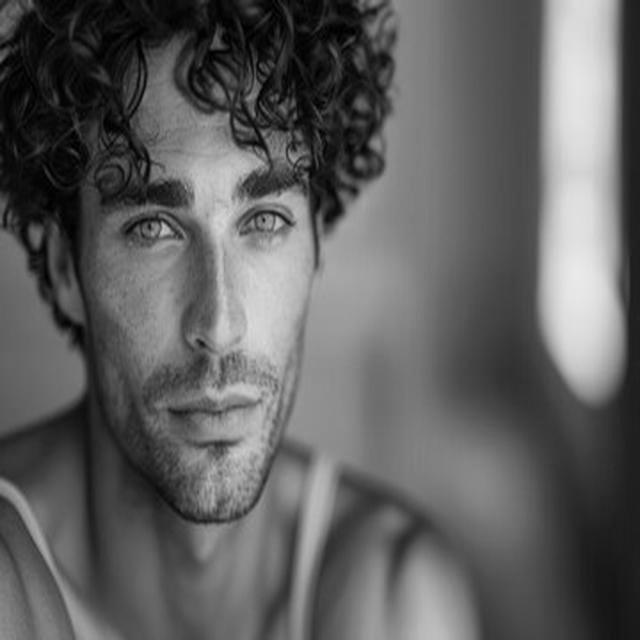Neutral: (81, 33, 313, 523)
